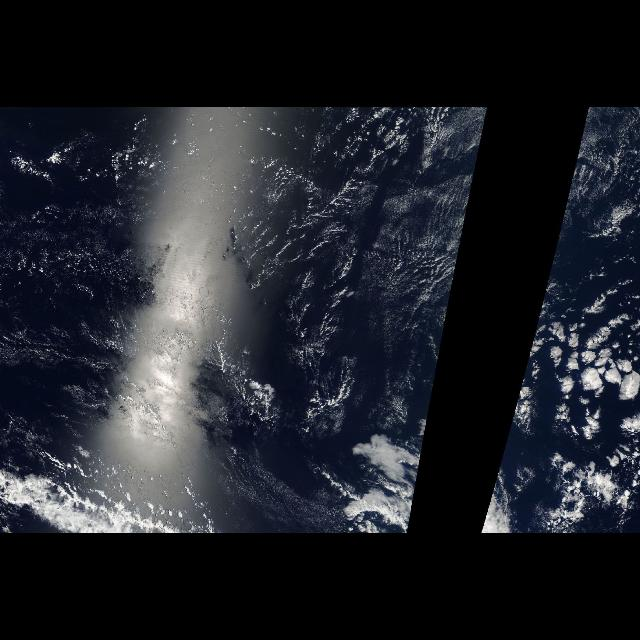Flower: (493, 268, 637, 500)
Sugar: (266, 120, 486, 268), (549, 120, 633, 268)
